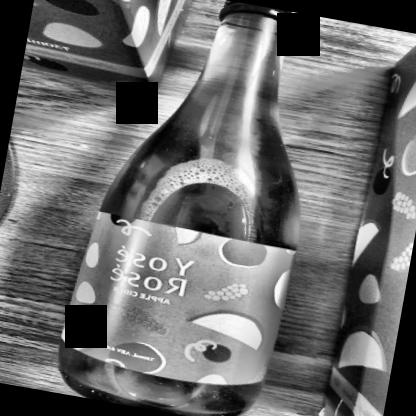yoserose: (51, 208, 302, 393)
